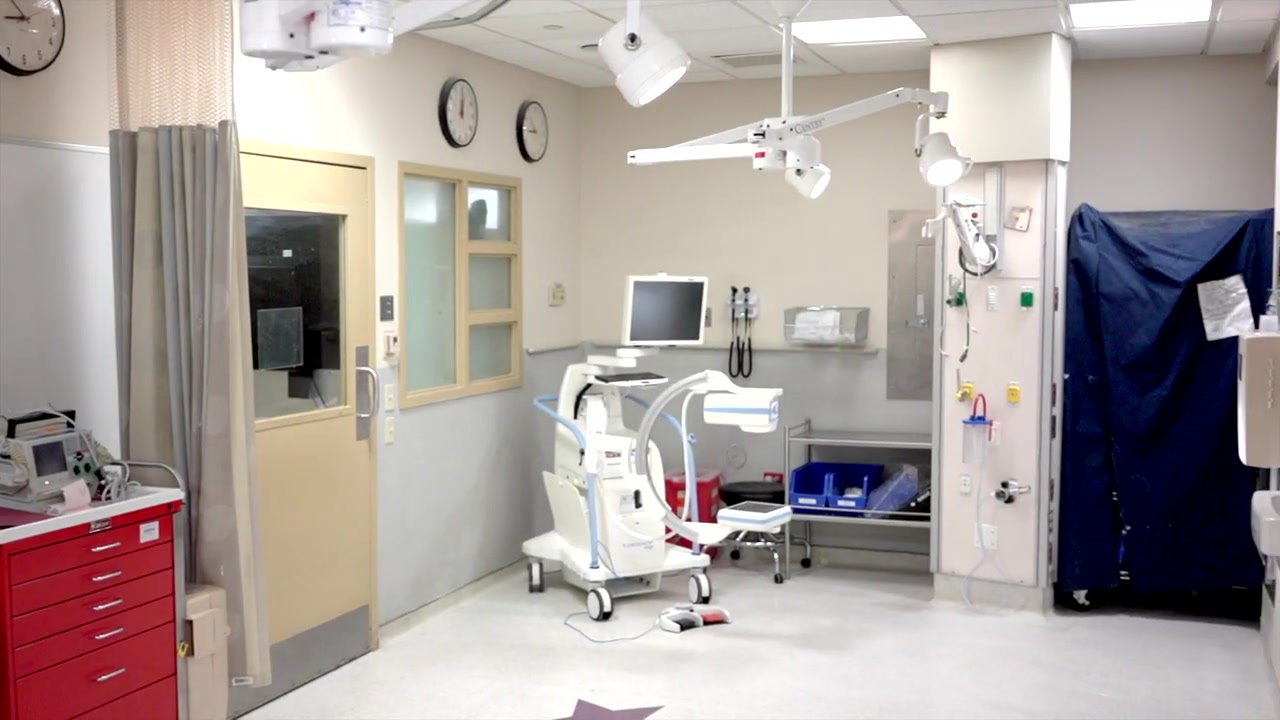bedside_monitor: (621, 275, 709, 350)
chair: (713, 476, 811, 584)
curtain: (115, 1, 268, 688)
dispenser: (1234, 325, 1280, 470)
door_handle: (355, 365, 381, 419)
handle: (92, 597, 124, 613), (97, 666, 128, 682), (91, 569, 123, 584), (90, 540, 122, 555), (95, 625, 125, 640)
light_switch: (385, 384, 397, 410), (385, 418, 397, 444)
medical_drawer: (1, 475, 182, 720)
surgical_light: (578, 13, 700, 110), (913, 133, 969, 191), (781, 156, 834, 203)
